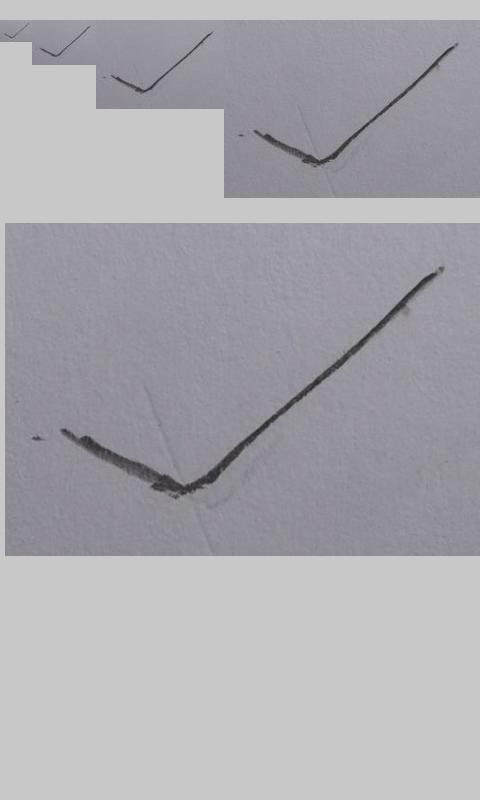check_box: (62, 267, 442, 500), (252, 43, 458, 165), (112, 32, 212, 93), (40, 26, 90, 57), (4, 23, 29, 39)
